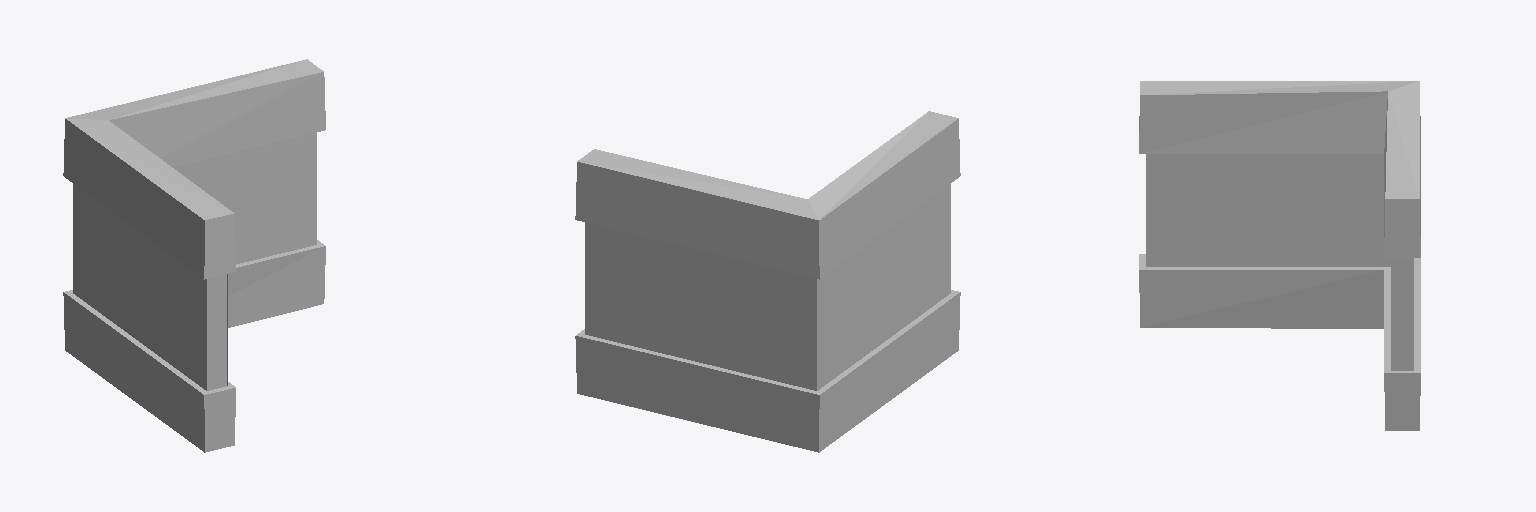
File: wall.obj
3 renders of one model, left to right at view 1: azimuth 30°, elevation 25°; view 2: azimuth 150°, elevation 25°; view 3: azimuth 270°, elevation 25°, orthographic.
Visible parts, largest first — view 1: Cube, Cube.002; view 2: Cube; view 3: Cube, Cube.004.
Part boxes in pixels (left/top/right/bottom): Cube: left=63, top=59, right=325, bottom=452; Cube.002: left=174, top=133, right=316, bottom=263; Cube: left=575, top=111, right=960, bottom=452; Cube: left=1139, top=81, right=1420, bottom=430; Cube.004: left=1146, top=154, right=1390, bottom=266.
Bounding box in the file's own units: 2.3 × 2.14 × 2.3.